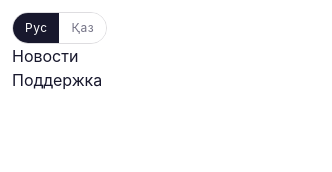
Scenario: переключатель языка › меняет и словарные, и контентные строки
Expected: the text "Новости" is shown, x1=12 y1=46 x2=78 y2=66
Expected: the text "Поддержка" is shown, x1=12 y1=70 x2=102 y2=90
Step 1. Click the button "Қаз" → (83, 28), box x1=60 y1=13 x2=106 y2=43
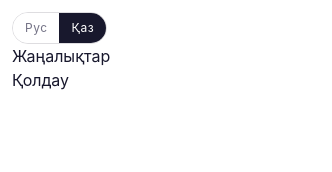
Result: the text "Жаңалықтар" is shown at x1=12 y1=46 x2=110 y2=66
Result: the text "Қолдау" is shown at x1=12 y1=70 x2=69 y2=90
Result: the text "Новости" is gone
Step 2. Click the button "Рус" → (36, 28), box x1=13 y1=13 x2=60 y2=43
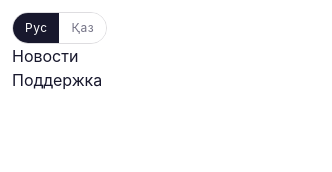
Result: the text "Новости" is shown at x1=12 y1=46 x2=78 y2=66
Result: the text "Поддержка" is shown at x1=12 y1=70 x2=102 y2=90
